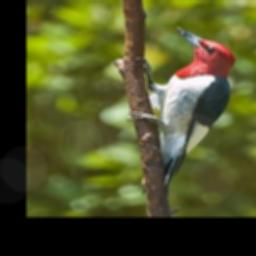Woodpecker: (127, 27, 236, 192)
